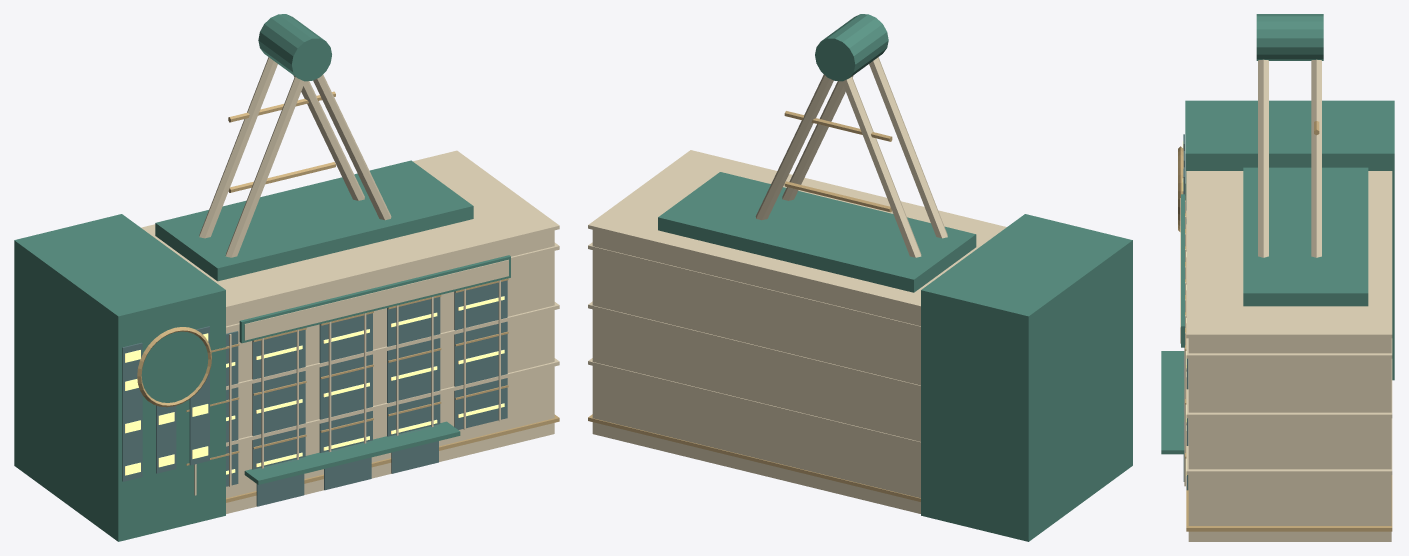
File: tpe5_miramar_mall_support.glb
The picture shows the model from 3 angles, left to right: view 1: azimuth 30°, elevation 25°; view 2: azimuth 150°, elevation 25°; view 3: azimuth 270°, elevation 25°; orthographic projection.
Parts seen in each view (by area): view 1: tpe5_miramar_mall_support__tpe5-mall-jade, tpe5_miramar_mall_support__tpe5-mall-ivory, tpe5_miramar_mall_support__tpe5-mall-glass, tpe5_miramar_mall_support__tpe5-mall-brass, tpe5_miramar_mall_support__tpe5-emissive-mall; view 2: tpe5_miramar_mall_support__tpe5-mall-ivory, tpe5_miramar_mall_support__tpe5-mall-jade, tpe5_miramar_mall_support__tpe5-mall-brass; view 3: tpe5_miramar_mall_support__tpe5-mall-ivory, tpe5_miramar_mall_support__tpe5-mall-jade, tpe5_miramar_mall_support__tpe5-mall-brass, tpe5_miramar_mall_support__tpe5-mall-glass.
Boxes of the visible parts, <box> form: tpe5_miramar_mall_support__tpe5-mall-jade: <box>14,14,510,541</box>; tpe5_miramar_mall_support__tpe5-mall-ivory: <box>141,57,559,513</box>; tpe5_miramar_mall_support__tpe5-mall-glass: <box>122,280,507,506</box>; tpe5_miramar_mall_support__tpe5-mall-brass: <box>137,91,559,502</box>; tpe5_miramar_mall_support__tpe5-emissive-mall: <box>125,296,504,475</box>; tpe5_miramar_mall_support__tpe5-mall-ivory: <box>588,57,1006,513</box>; tpe5_miramar_mall_support__tpe5-mall-jade: <box>658,14,1132,541</box>; tpe5_miramar_mall_support__tpe5-mall-brass: <box>588,111,920,501</box>; tpe5_miramar_mall_support__tpe5-mall-ivory: <box>1180,59,1392,541</box>; tpe5_miramar_mall_support__tpe5-mall-jade: <box>1161,14,1394,454</box>; tpe5_miramar_mall_support__tpe5-mall-brass: <box>1178,121,1392,531</box>; tpe5_miramar_mall_support__tpe5-mall-glass: <box>1183,134,1188,490</box>.
Bounding box in the file's own units: 32.8 × 29.9 × 14.95.
